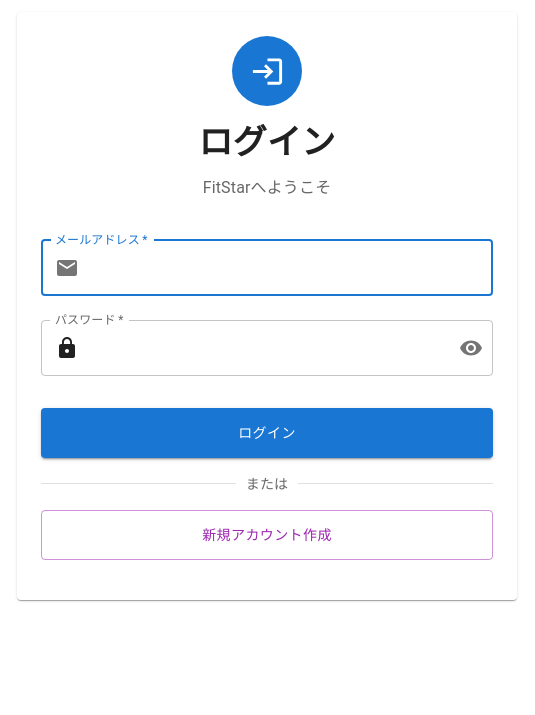
Test: Login Component › 🔒 認証失敗（401）: パスワード不一致
Step 1. Type "existing@example.com" into the field labelled "メールアドレス *" → (290, 268), box [87,240,493,296]
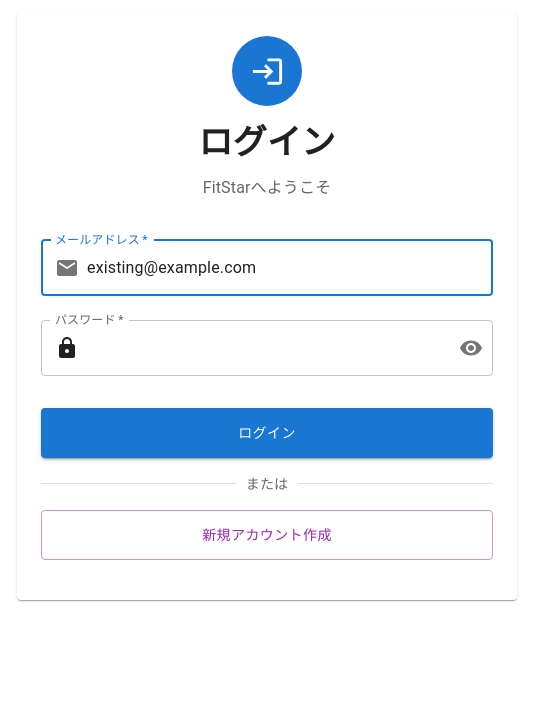
Step 2. Type "wrongpassword" into the password field labelled "パスワード *" → (269, 348), box [87,320,451,376]
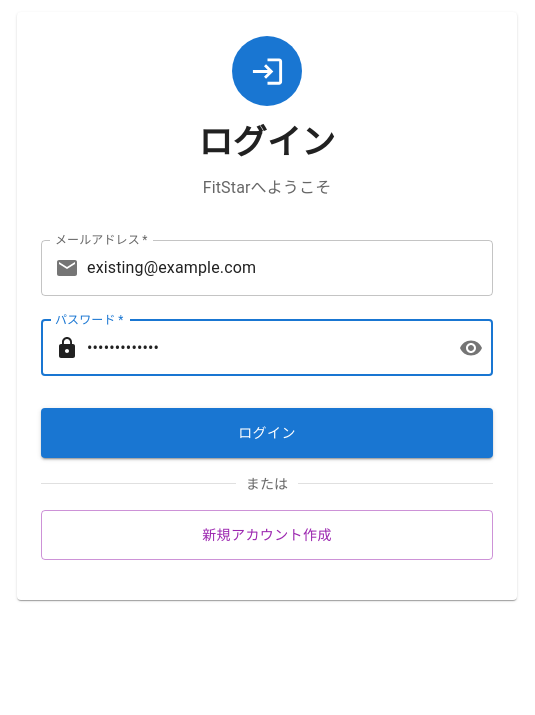
Step 3. Click the button "ログイン" → (267, 433), box [41,408,493,458]
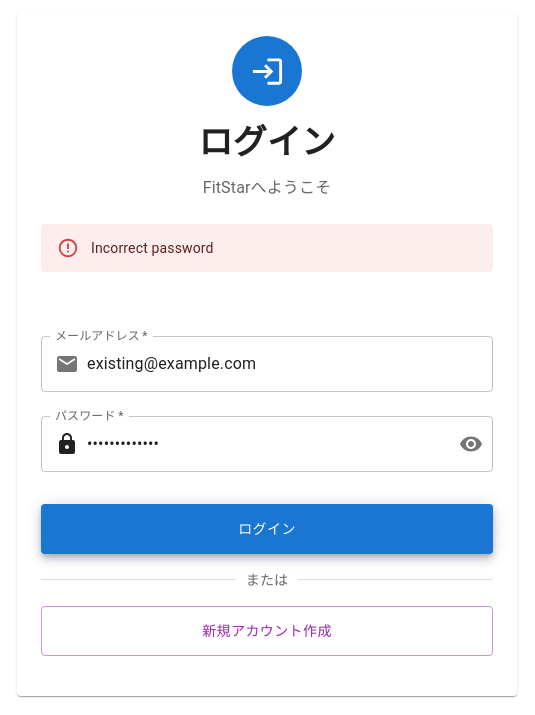
Check: the message "Incorrect password" is shown, box [41,224,493,272]
Check: the text "Incorrect password" is shown, box [91,240,214,256]
